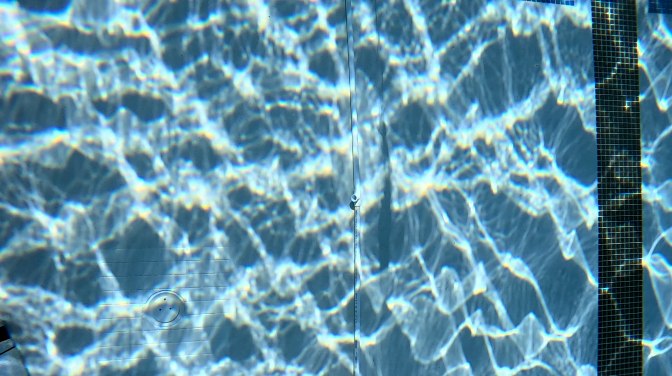sandbag: (2, 323, 25, 375)
